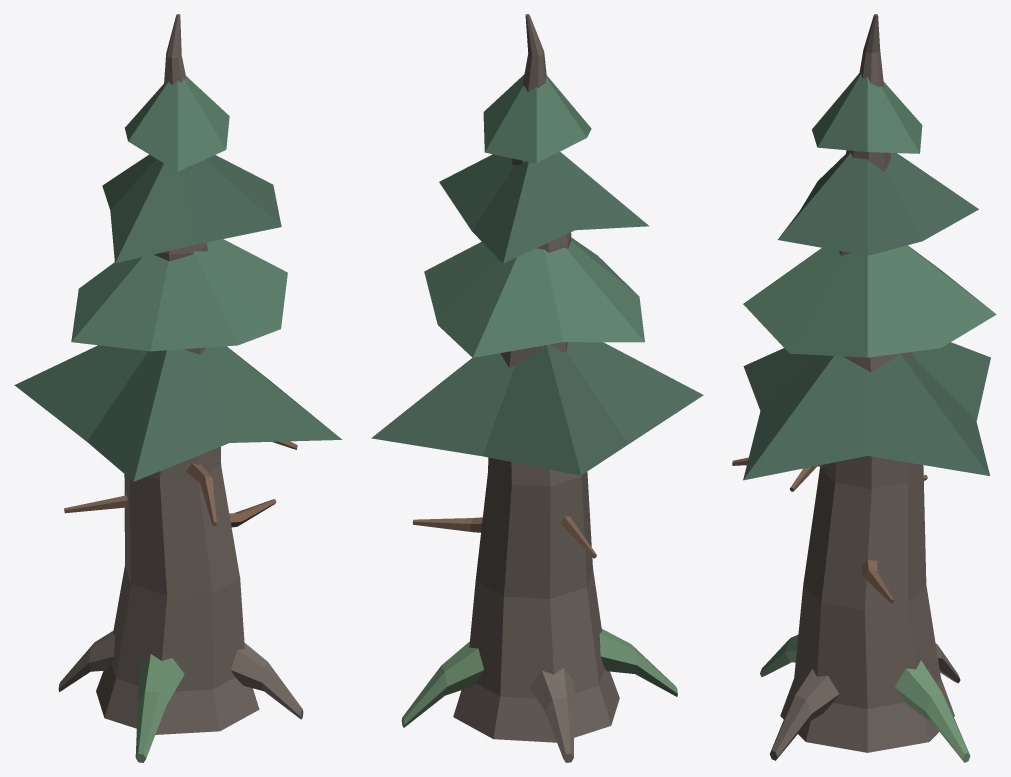
The model's file is outdoor_tree_pine.glb.
The picture shows the model from 3 angles, left to right: view 1: azimuth 30°, elevation 25°; view 2: azimuth 150°, elevation 25°; view 3: azimuth 270°, elevation 25°; orthographic projection. The views are drawn at different scales.
Visible parts, largest first — view 1: Outdoor_Tree_Pine; view 2: Outdoor_Tree_Pine; view 3: Outdoor_Tree_Pine.
Boxes of the visible parts, <box> form: Outdoor_Tree_Pine: <box>14,14,342,762</box>; Outdoor_Tree_Pine: <box>371,14,703,762</box>; Outdoor_Tree_Pine: <box>732,14,996,762</box>.
Size of the model in its own units: 3.69 by 11.17 by 3.78.
